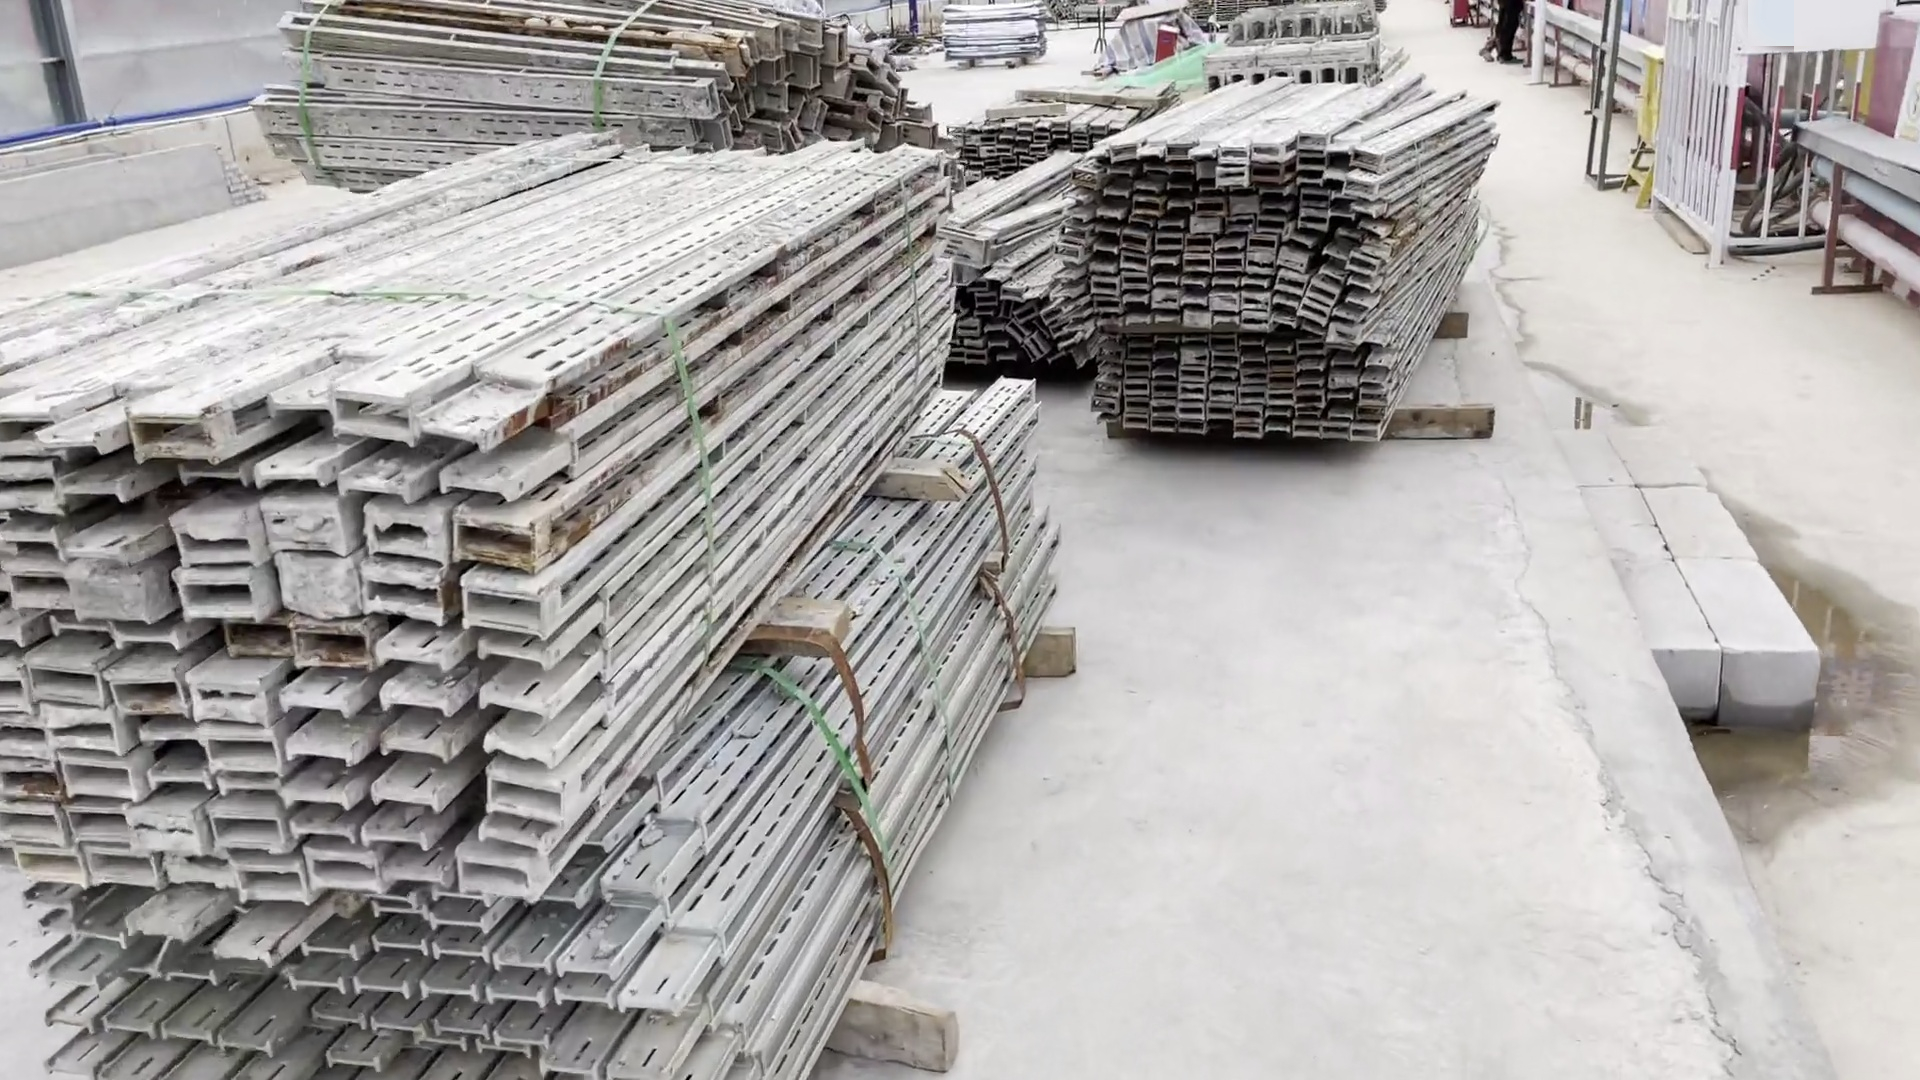brick: (1568, 422, 1847, 761)
ebox: (1622, 40, 1665, 218)
fence: (1867, 9, 1920, 144)
